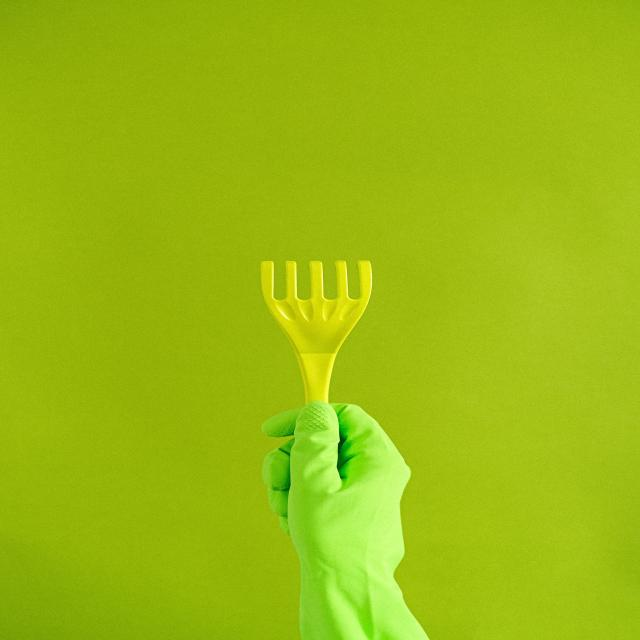plastic: (277, 278, 366, 381)
